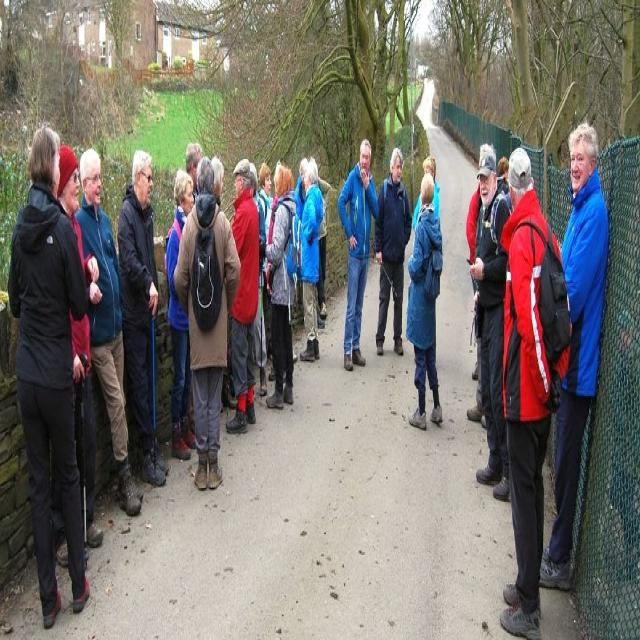body: (5, 120, 90, 633), (498, 144, 574, 638), (538, 118, 610, 590), (75, 146, 144, 519), (172, 152, 241, 495), (54, 142, 104, 569), (114, 147, 170, 490), (465, 148, 514, 500), (404, 170, 444, 432), (224, 155, 261, 438), (336, 135, 379, 375), (164, 168, 196, 462), (263, 163, 298, 411), (373, 144, 413, 358), (465, 181, 487, 435), (295, 160, 322, 366), (305, 156, 333, 321), (249, 160, 268, 399), (254, 160, 275, 368), (411, 153, 442, 237), (267, 336, 298, 392), (216, 360, 237, 414), (184, 138, 201, 201), (294, 153, 308, 224), (210, 152, 224, 211), (497, 154, 510, 196), (479, 139, 495, 166), (316, 305, 326, 332)
